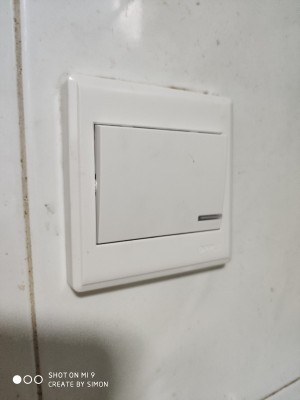switch: (94, 120, 226, 236)
